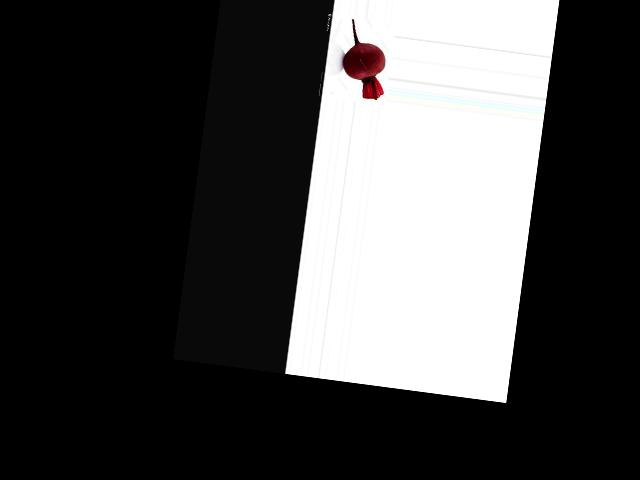beet: (338, 19, 391, 101)
